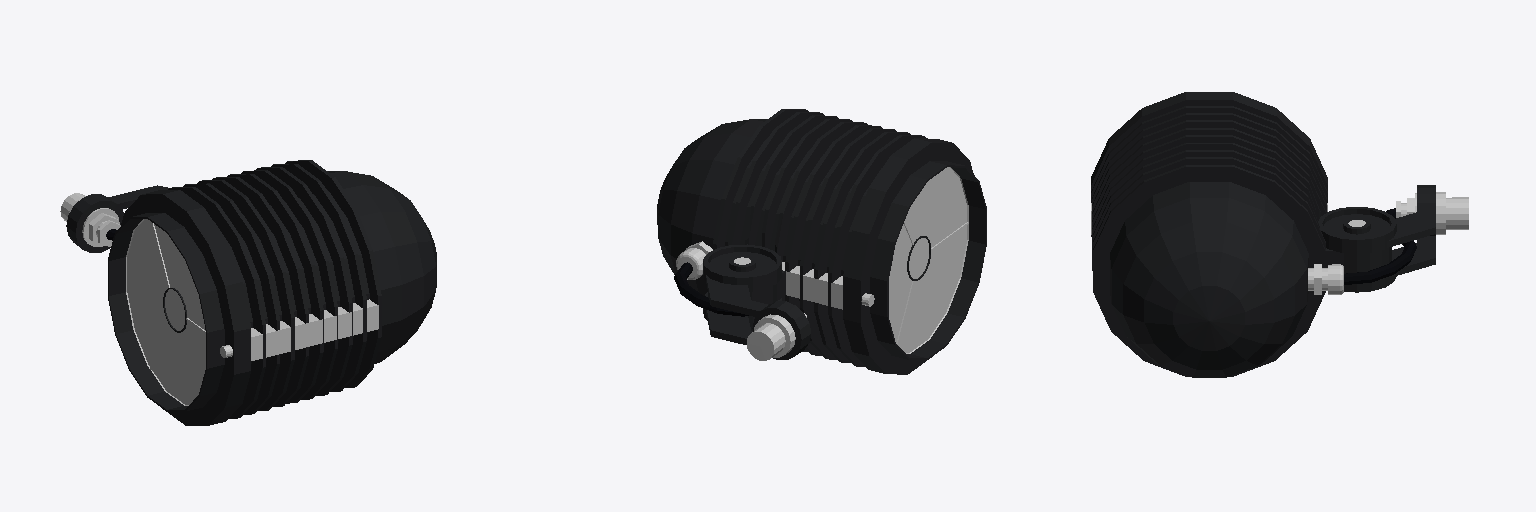
The picture shows the model from 3 angles: view 1: azimuth 30°, elevation 25°; view 2: azimuth 150°, elevation 25°; view 3: azimuth 270°, elevation 25°; orthographic projection.
Parts seen in each view (by area): view 1: BezierCurve.001, BezierCurve.014, Cube.001, BezierCurve.006, BezierCurve.008; view 2: BezierCurve.001, BezierCurve.014, BezierCurve.003, BezierCurve.006, BezierCurve.005, Cube.001, BezierCurve.012, BezierCurve.010; view 3: BezierCurve.001, BezierCurve.003, BezierCurve.005, BezierCurve.006, BezierCurve.012, BezierCurve.010.
Part boxes in pixels (x1,y1,x2,y2): BezierCurve.001: (108,160,436,425); BezierCurve.014: (127,219,205,404); Cube.001: (251,299,378,360); BezierCurve.006: (60,193,123,252); BezierCurve.008: (89,213,120,246); BezierCurve.001: (657,109,986,374); BezierCurve.014: (889,167,966,352); BezierCurve.003: (703,244,785,329); BezierCurve.006: (747,301,810,360); BezierCurve.005: (706,275,767,344); Cube.001: (782,262,842,309); BezierCurve.012: (674,262,748,316); BezierCurve.010: (676,246,712,279); BezierCurve.001: (1091,92,1327,377); BezierCurve.003: (1318,207,1396,292); BezierCurve.005: (1387,203,1435,278); BezierCurve.006: (1401,185,1468,235); BezierCurve.012: (1344,208,1416,284); BezierCurve.010: (1308,264,1343,294).
Bounding box in the file's own units: 0.2007 × 0.1539 × 0.2455.
Materials: 5 (2 with a texture image).